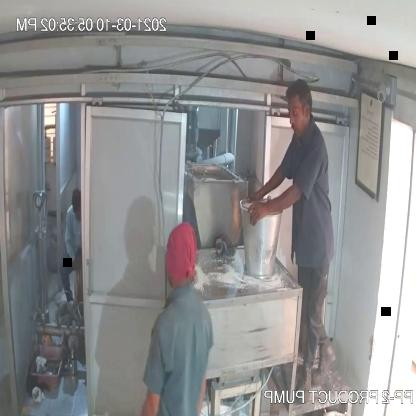no_glove: (239, 168, 305, 236)
